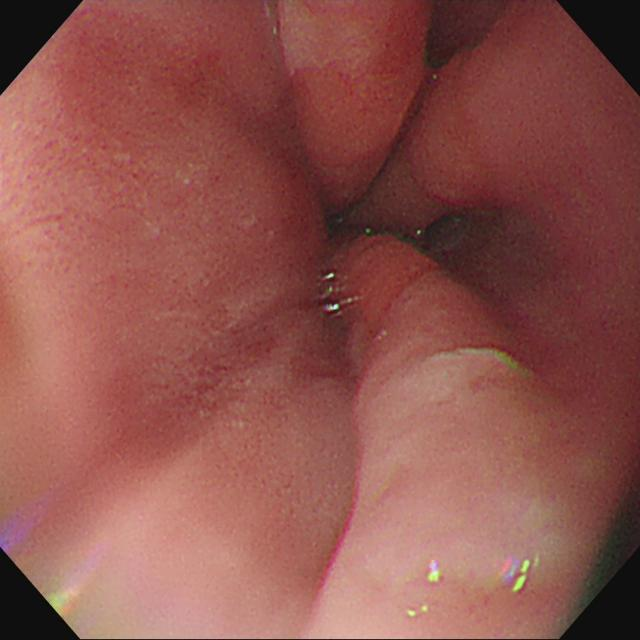I: (254, 118, 494, 409)
U: (504, 558, 533, 598), (321, 270, 342, 316), (426, 560, 444, 585)
